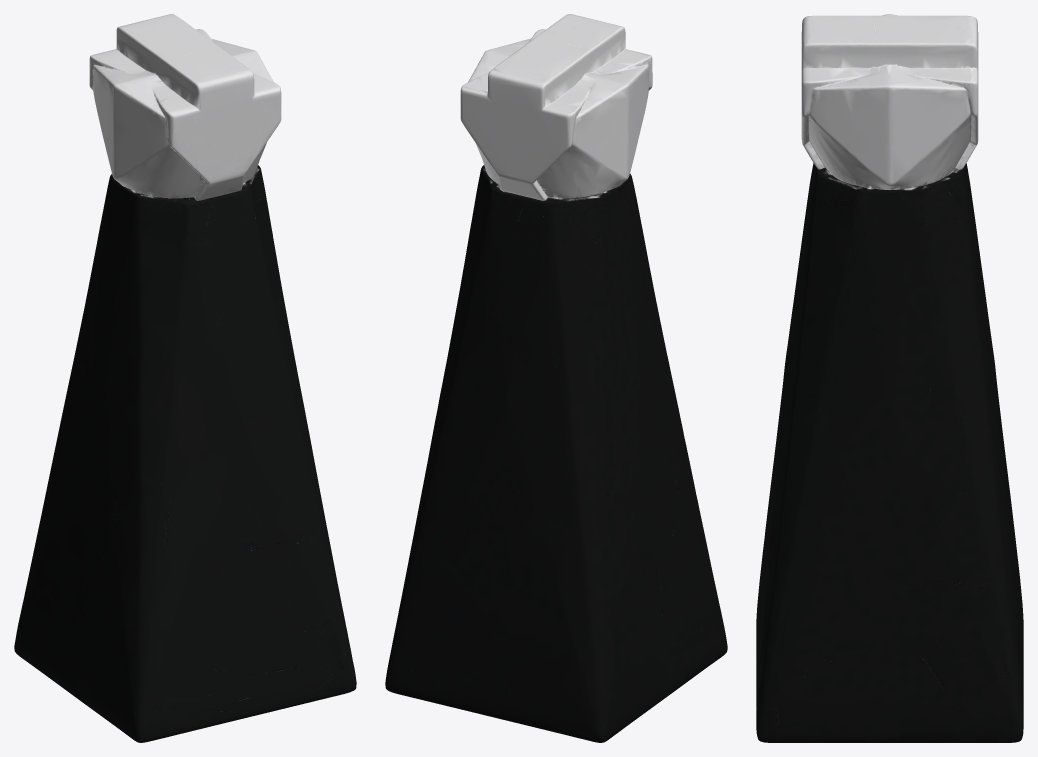
File: rook-black-hd.glb
3 renders of one model, left to right at view 1: azimuth 30°, elevation 25°; view 2: azimuth 150°, elevation 25°; view 3: azimuth 270°, elevation 25°, orthographic. The views are drawn at different scales.
Size of the model in its own units: 0.4609 by 1.25 by 0.4593.
Materials: 1 (1 with a texture image).
